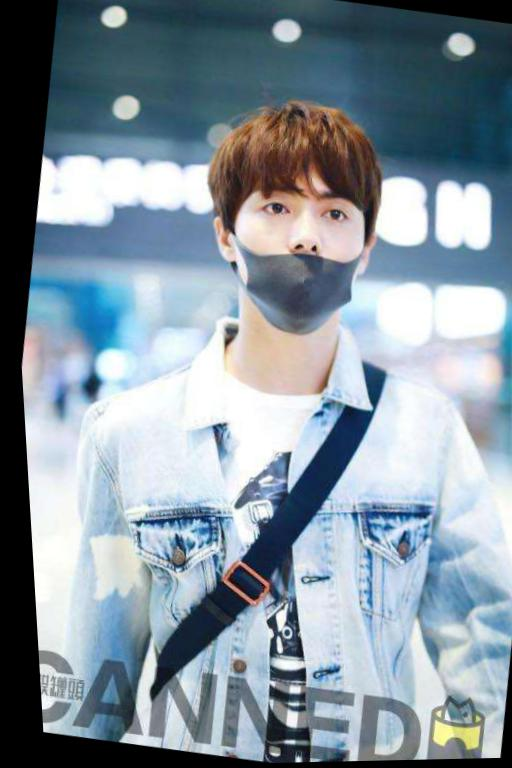WRONG: (220, 157, 376, 345)
